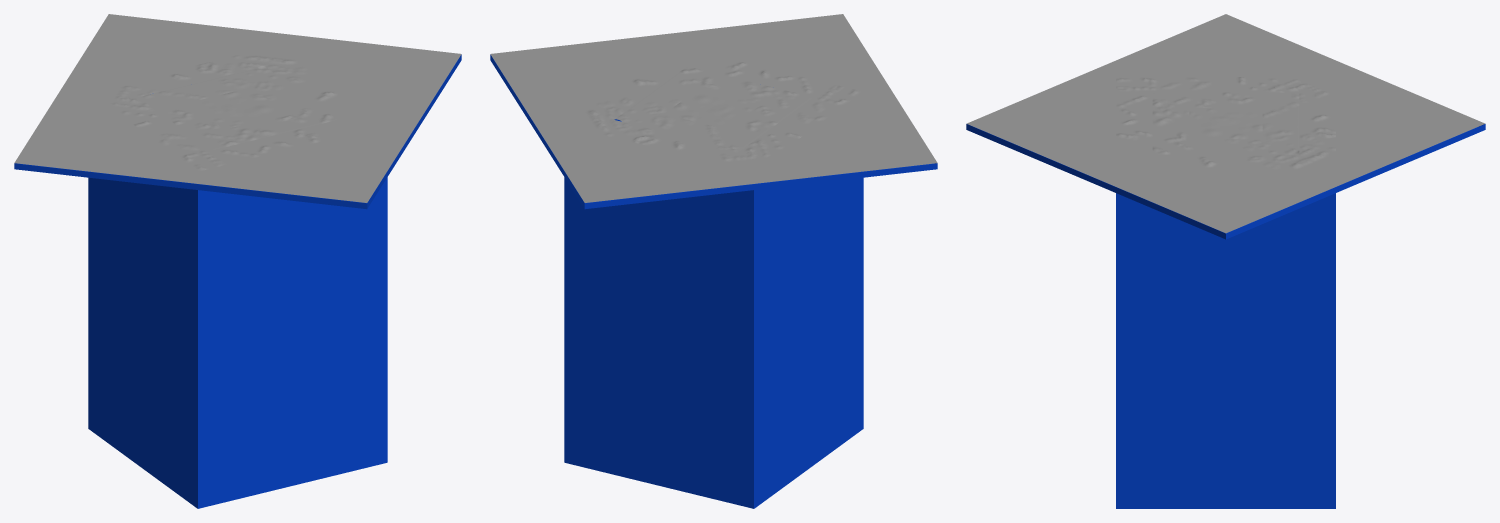
The model's file is CrystalPyramidFloor.FBX.
3 renders of one model, left to right at view 1: azimuth 30°, elevation 25°; view 2: azimuth 150°, elevation 25°; view 3: azimuth 270°, elevation 25°, orthographic.
Parts seen in each view (by area): view 1: Tube, Border, Middle, Inner, Center; view 2: Tube, Border, Middle, Inner, Center; view 3: Tube, Border, Middle, Inner, Center.
Boxes of the visible parts, x1,y1,x2,y2 form: Tube: (14, 54, 461, 508); Border: (14, 14, 461, 202); Middle: (88, 45, 387, 171); Inner: (138, 66, 337, 150); Center: (188, 87, 287, 129); Tube: (490, 54, 937, 508); Border: (490, 14, 937, 202); Middle: (564, 45, 863, 171); Inner: (615, 66, 813, 150); Center: (664, 87, 763, 129); Tube: (966, 124, 1485, 508); Border: (967, 14, 1484, 233); Middle: (1116, 77, 1335, 170); Inner: (1152, 92, 1299, 154); Center: (1189, 108, 1262, 139).
Bounding box in the file's own units: 141 × 102 × 141.
